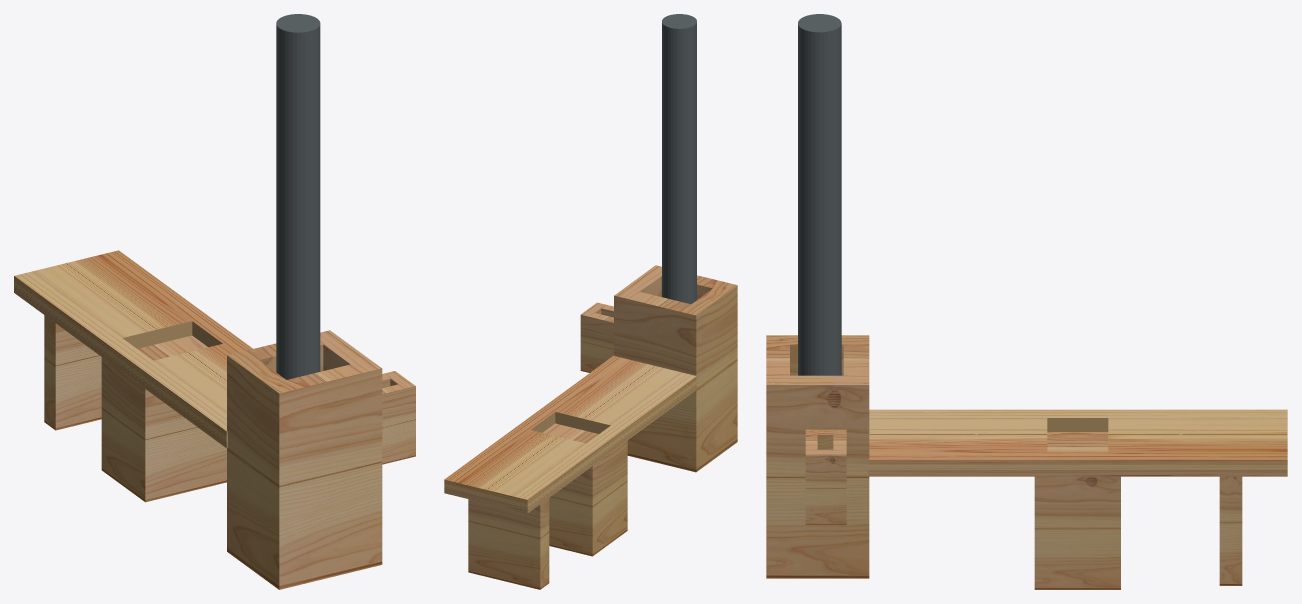
The model's file is 建築課題.glb.
3 views of the same model, side by side, from view 1: azimuth 30°, elevation 25°; view 2: azimuth 150°, elevation 25°; view 3: azimuth 270°, elevation 25° (orthographic). The views are drawn at different scales.
Visible parts, largest first — view 1: 立方体.001, Cube, 円柱, 立方体.005, 立方体, 立方体.002; view 2: 立方体.001, Cube, 円柱, 立方体.005, 立方体, 立方体.002; view 3: Cube, 立方体.001, 円柱, 立方体.005, 立方体.002, 立方体.
Part boxes in pixels (x1,y1,x2,y2): 立方体.001: (227,330,382,589); Cube: (14,250,252,448); 円柱: (276,14,320,379); 立方体.005: (101,335,226,502); 立方体: (44,315,101,430); 立方体.002: (382,371,415,464); 立方体.001: (614,265,737,472); Cube: (444,355,697,513); 円柱: (662,14,696,303); 立方体.005: (542,423,627,556); 立方体: (468,498,549,589); 立方体.002: (580,302,613,372); Cube: (868,409,1287,476); 立方体.001: (766,335,869,578); 円柱: (798,14,841,375); 立方体.005: (1034,432,1120,589); 立方体.002: (805,429,846,524); 立方体: (1219,476,1242,585).
Bounding box in the file's own units: 3.49 × 11.6 × 10.14.
Materials: 3 (2 with a texture image).
